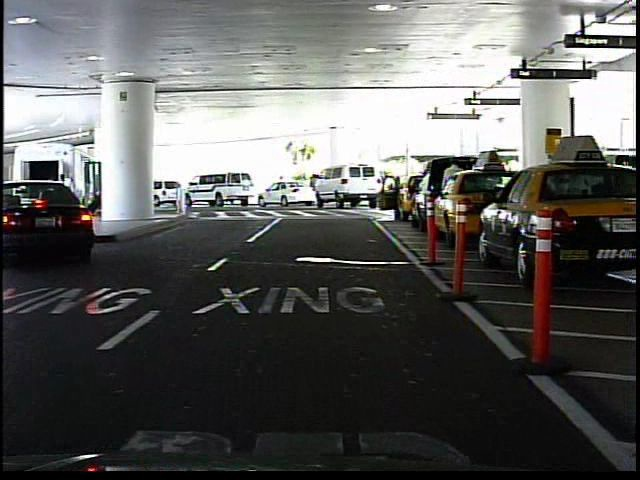person: (440, 155, 467, 229), (273, 172, 288, 204), (308, 172, 322, 203)
